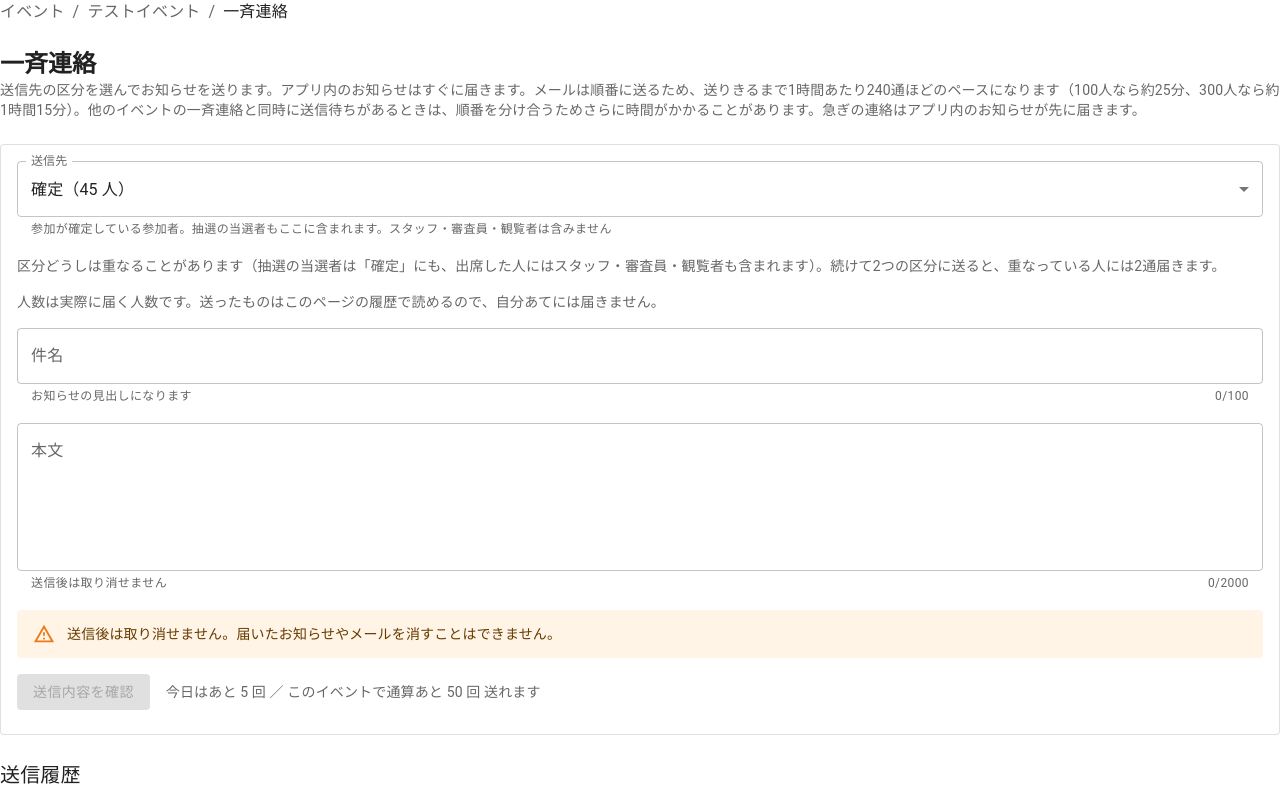
Test: 送信前の確認 (#172) › 確認ダイアログを開く直前に人数を取り直す
This screenshot has width=1280, height=800.
Expected: the dropdown "確定（45 人）" is shown, [31,180,134,198]
Type "集合場所の変更" into the field labelled "件名" at (640, 356), box [17,328,1263,384]
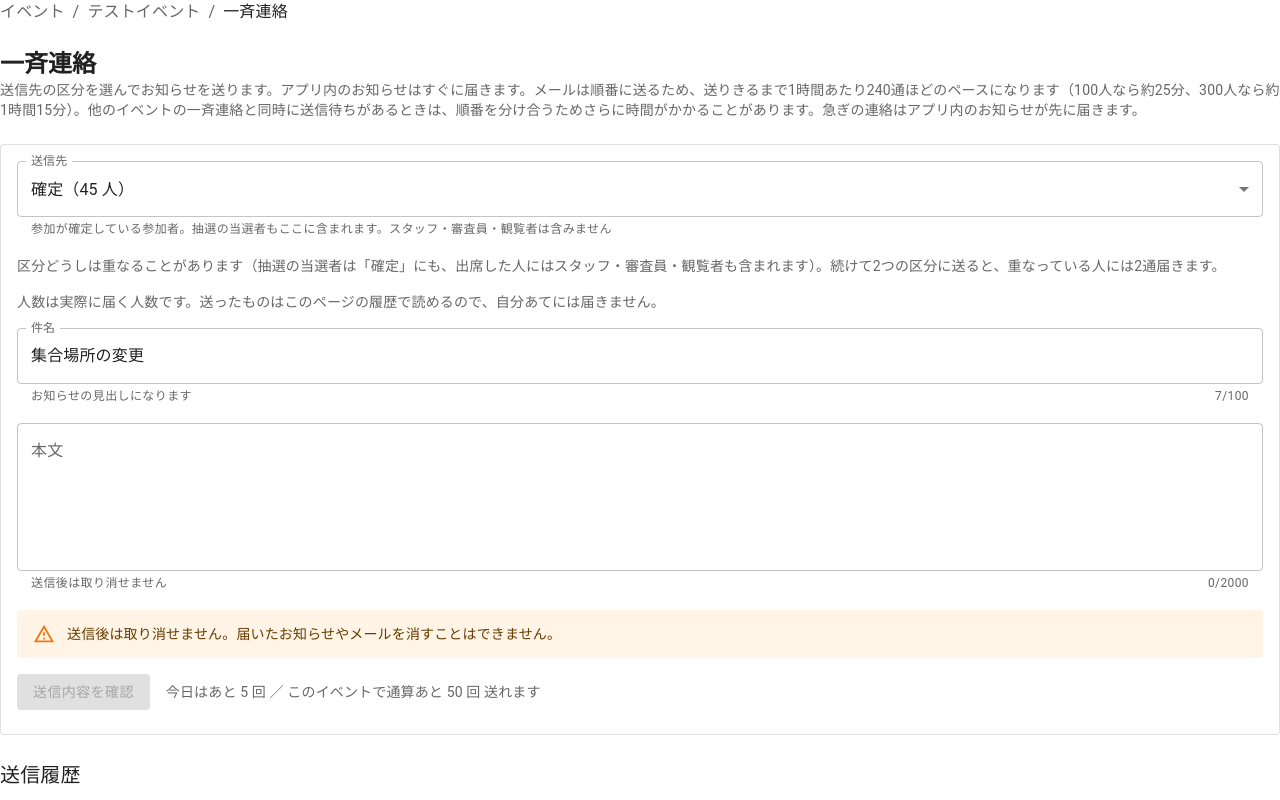
Type "本文です" into the text box labelled "本文" at (640, 497), box [31,439,1249,554]
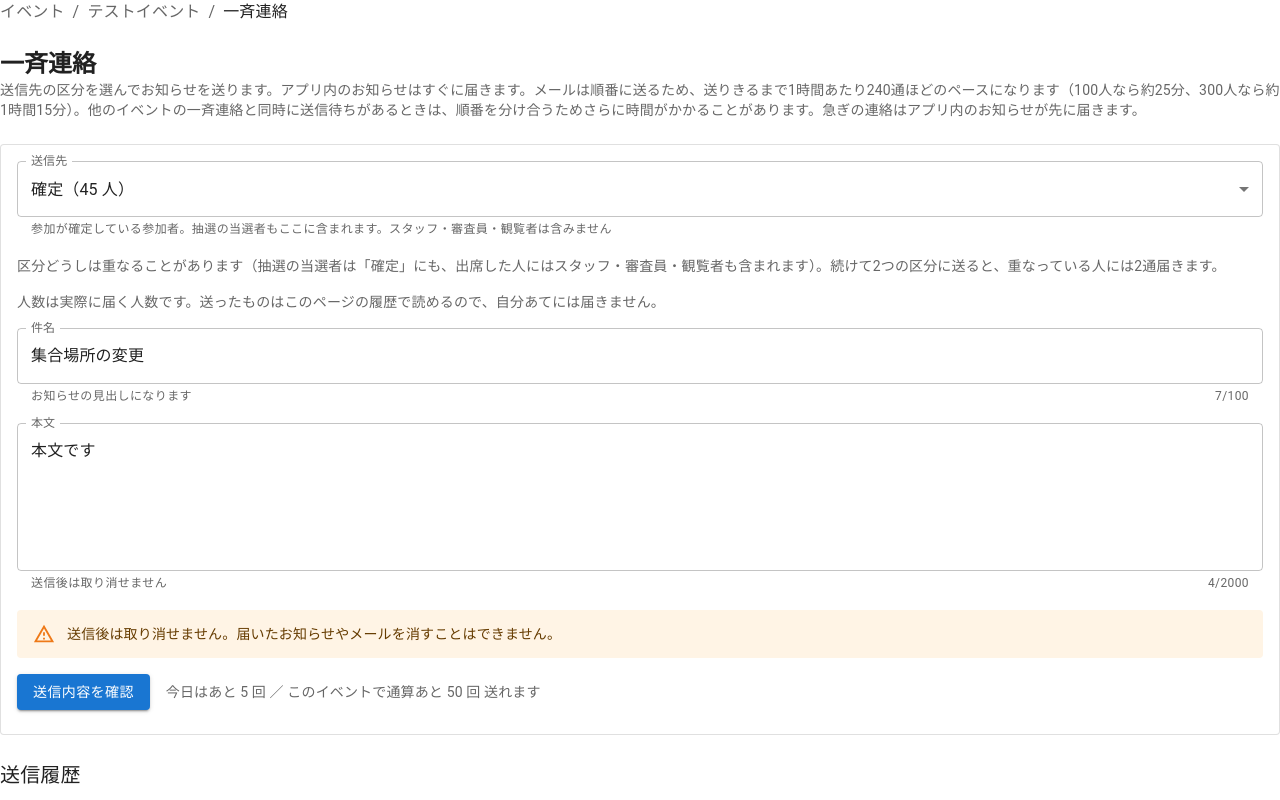
Click the button "送信内容を確認" at (83, 692), box [17,674,150,710]
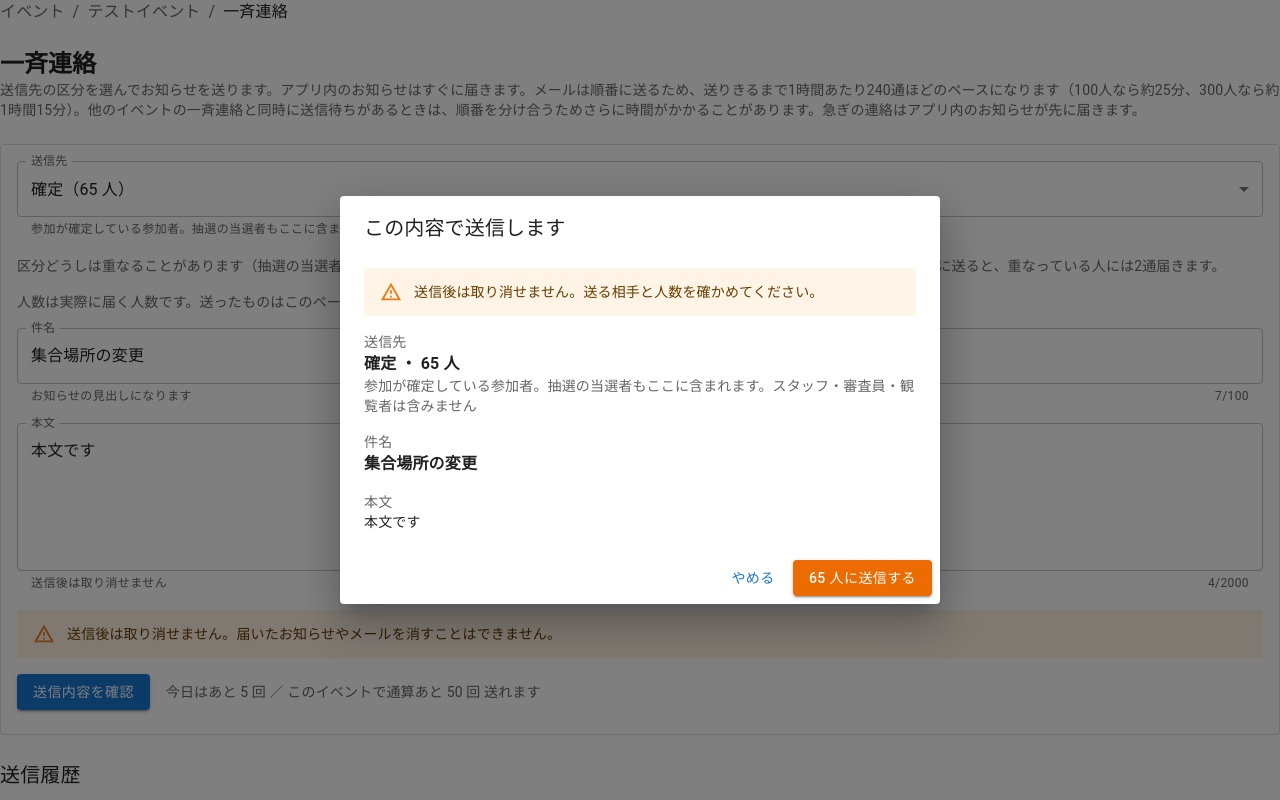
Result: the button "65 人に送信する" is shown at [793,560,932,596]
